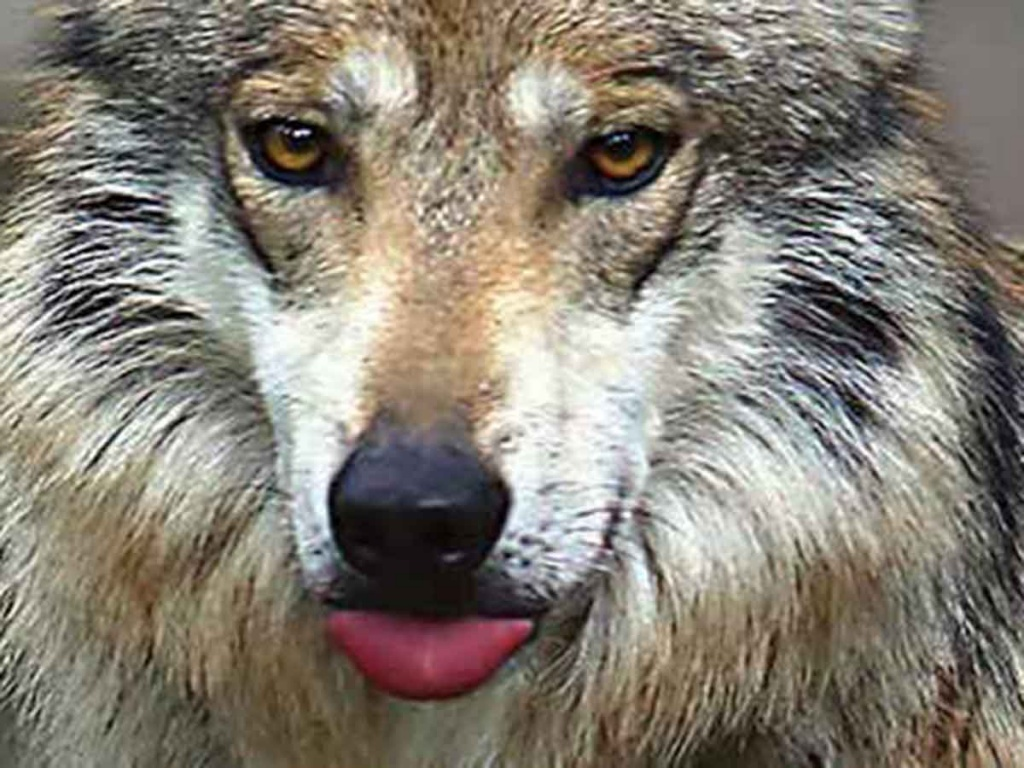Lobo: (35, 6, 983, 724)
